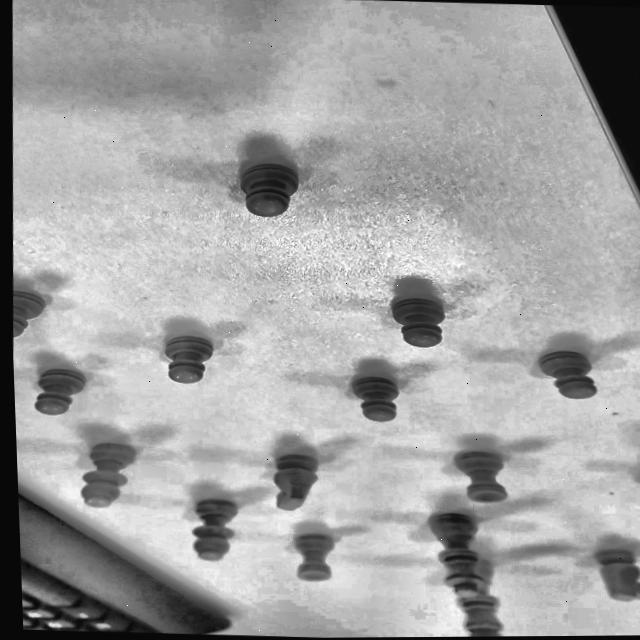white-bishop: (76, 433, 141, 508), (183, 489, 241, 559)
white-king: (427, 545, 515, 637)
white-knight: (260, 442, 320, 510), (580, 546, 640, 604)
white-pawn: (208, 152, 314, 222), (377, 281, 455, 351), (522, 341, 610, 401), (330, 364, 408, 425), (148, 326, 223, 389), (10, 273, 57, 344), (29, 359, 86, 417)
white-queen: (419, 504, 492, 600)
white-rook: (443, 437, 517, 501), (278, 526, 345, 586)
